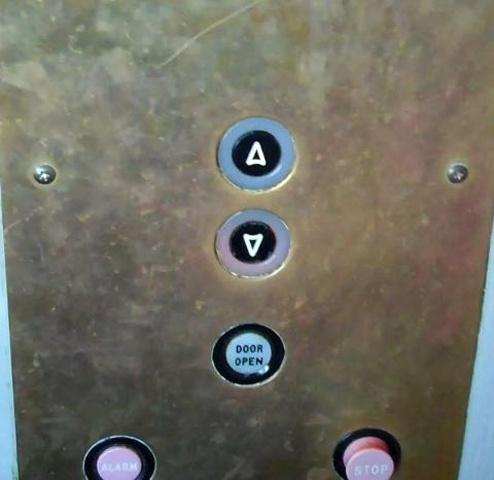alarm: (78, 431, 159, 479)
down: (211, 205, 293, 282)
open: (209, 318, 288, 388)
stop: (329, 426, 404, 479)
up: (213, 112, 299, 195)
